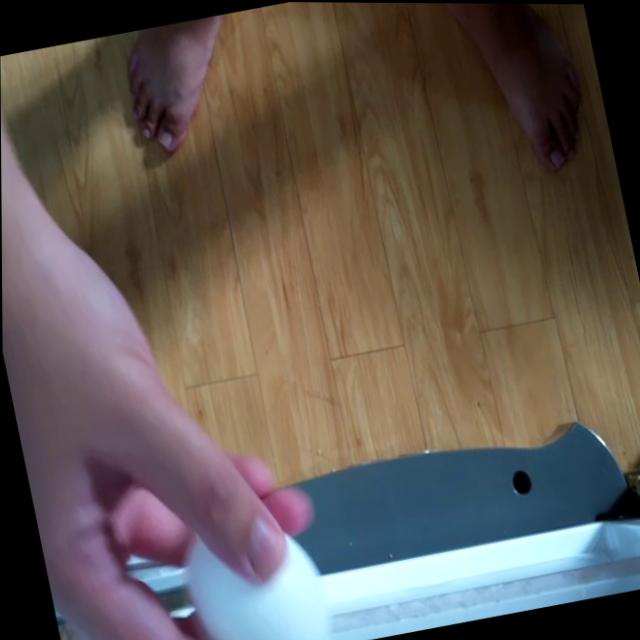egg: (173, 512, 336, 640)
